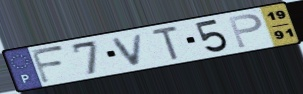5: (193, 18, 229, 54)
7: (69, 40, 102, 76)
F: (29, 44, 68, 85)
P: (226, 13, 265, 50)
T: (150, 24, 182, 62)
V: (110, 31, 146, 67)
